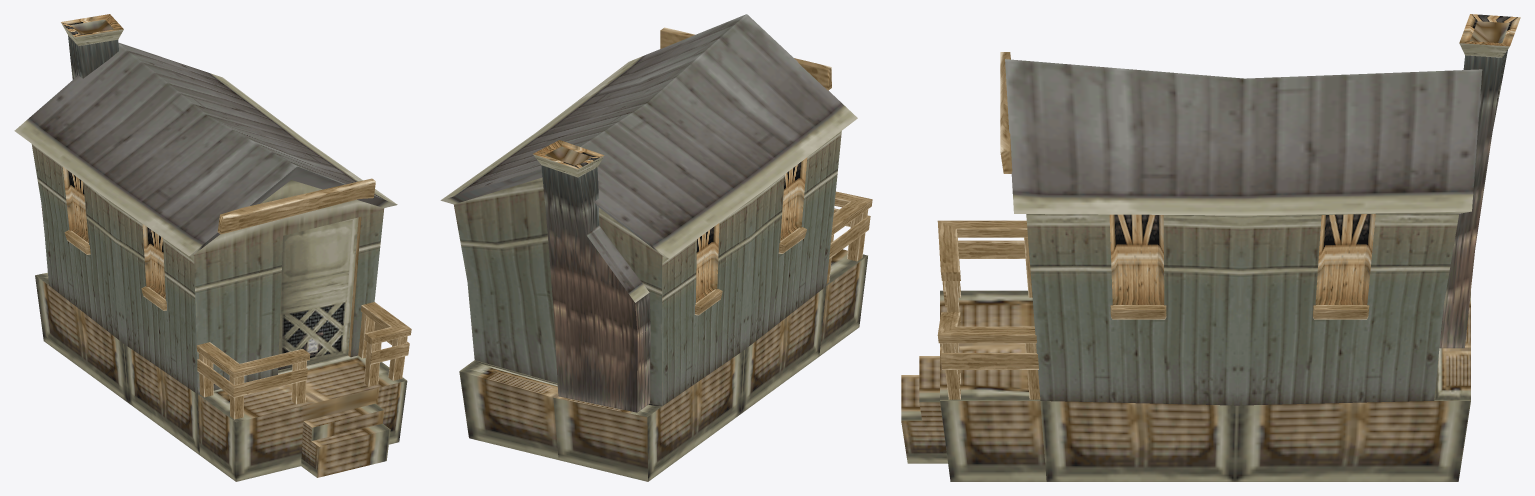
3 renders of one model, left to right at view 1: azimuth 30°, elevation 25°; view 2: azimuth 150°, elevation 25°; view 3: azimuth 270°, elevation 25°, orthographic. The views are drawn at different scales.
Visible parts, largest first — view 1: Gen_building_02; view 2: Gen_building_02; view 3: Gen_building_02.
Boxes of the visible parts, box(x1,y1,x2,y2) form: Gen_building_02: box(14, 14, 411, 481); Gen_building_02: box(440, 14, 872, 481); Gen_building_02: box(901, 14, 1520, 481).
Size of the model in its own units: 223 by 296 by 431.
1 material, 1 textured.
